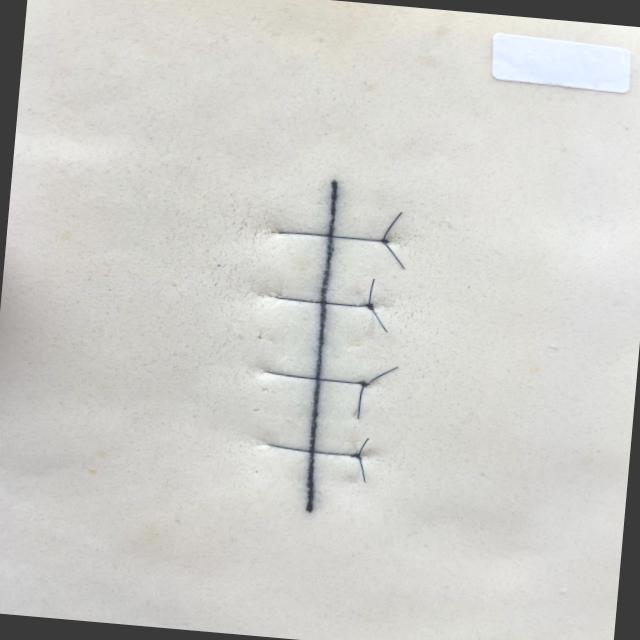knot: (347, 451, 364, 461), (363, 301, 377, 312), (356, 379, 371, 388), (378, 237, 391, 245)
leftover: (381, 239, 405, 269), (365, 365, 398, 385), (381, 210, 402, 241), (369, 306, 388, 332), (355, 383, 365, 419), (356, 455, 366, 482), (366, 277, 375, 306), (356, 437, 369, 456)
stitch: (268, 370, 366, 384), (268, 442, 360, 456), (276, 231, 390, 242), (275, 295, 372, 307)
wound: (307, 179, 335, 507)
